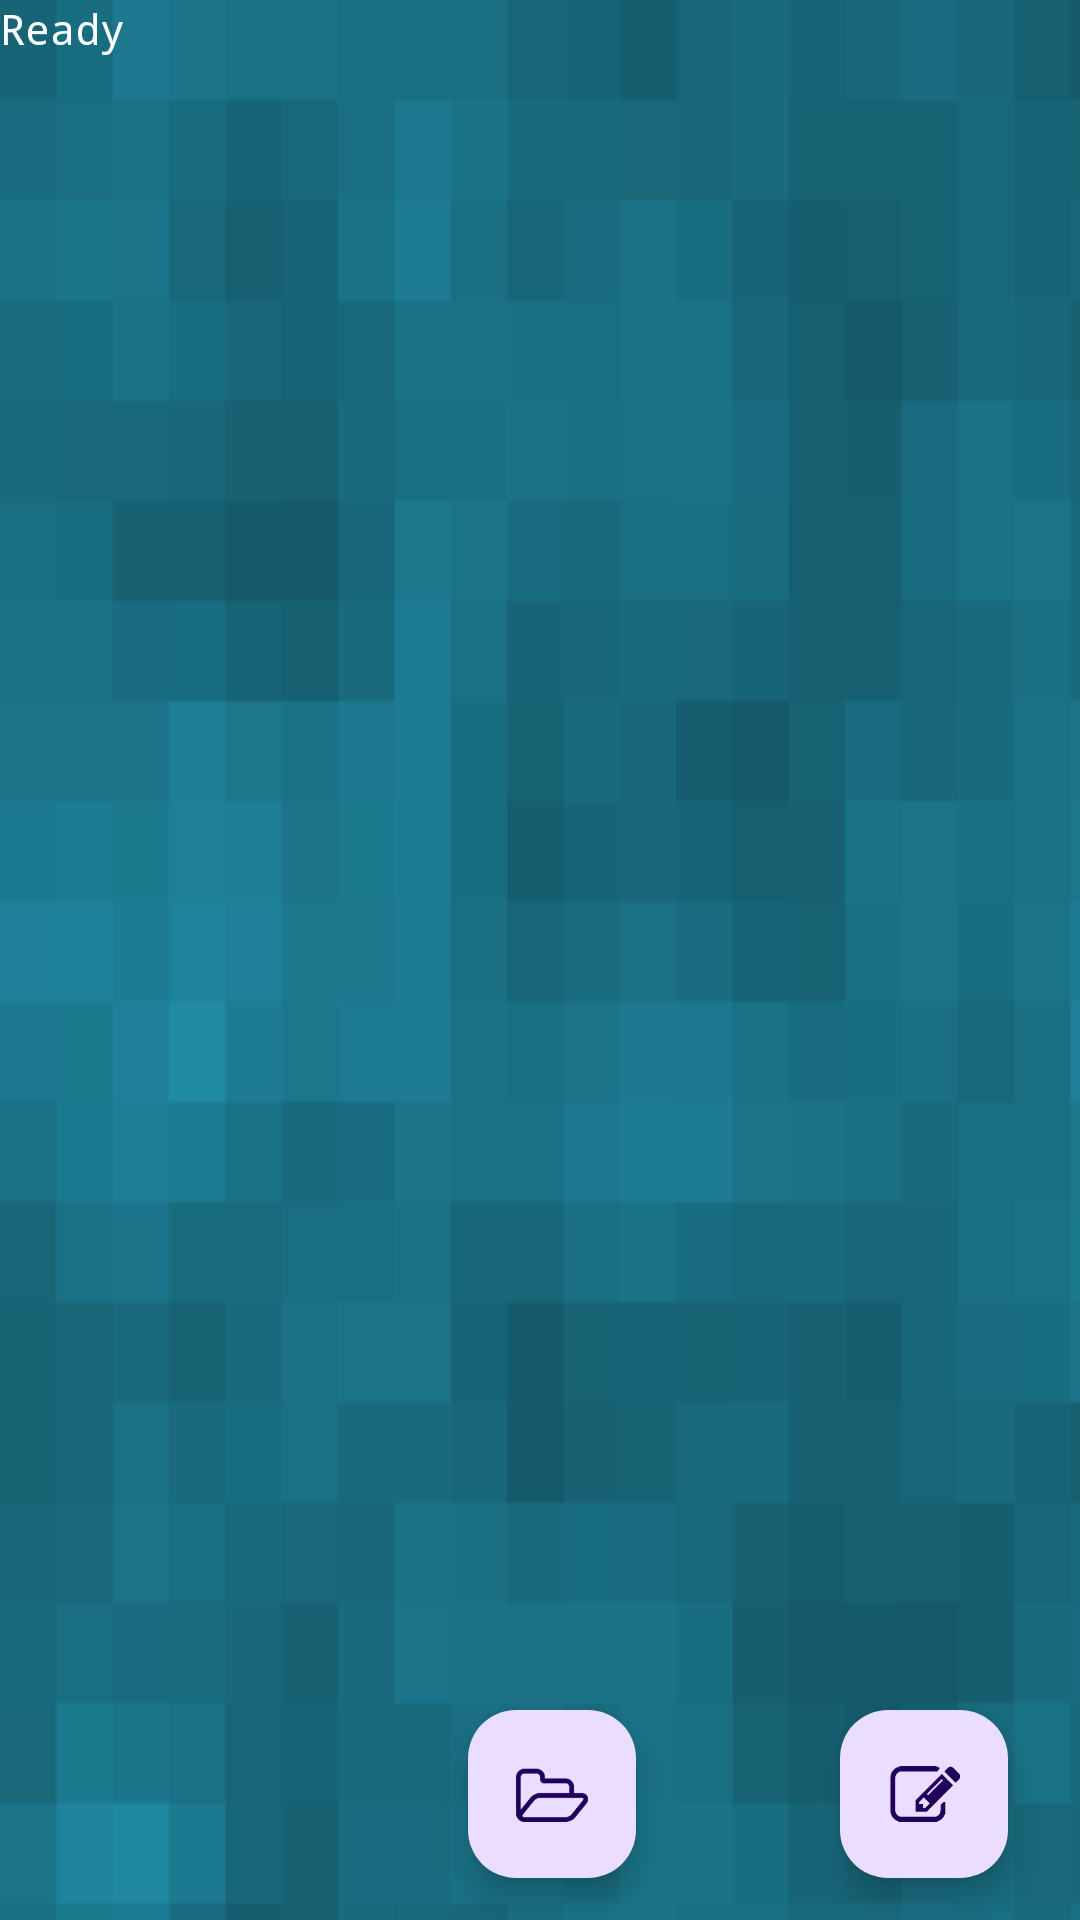

Icons on this 1080x1920 Android screen, each with the point to tap as point (x, y):
open: point (552, 1794)
write: point (924, 1794)
